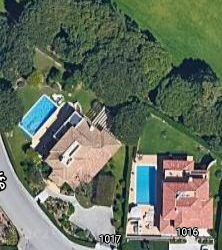pool: (22, 101, 60, 133), (134, 163, 155, 205)
